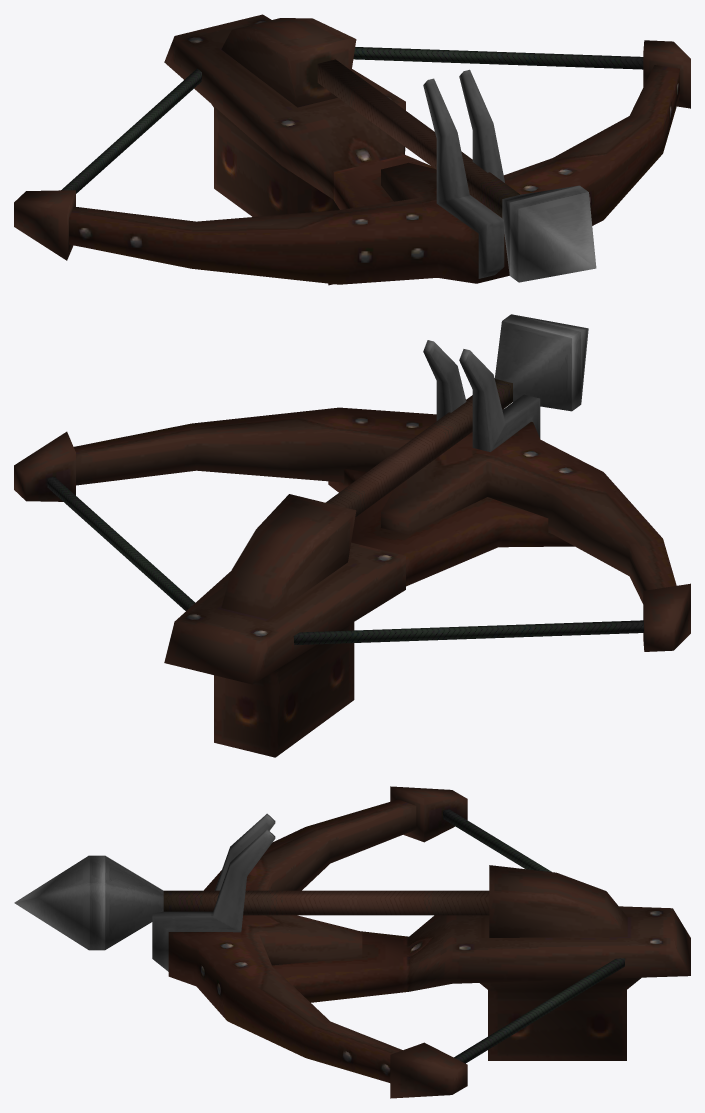
The model's file is Weapon9.fbx.
The picture shows the model from 3 angles, top to bottom: view 1: azimuth 30°, elevation 25°; view 2: azimuth 150°, elevation 25°; view 3: azimuth 270°, elevation 25°; orthographic projection. The views are drawn at different scales.
Visible parts, largest first — view 1: Skin, Model; view 2: Skin, Model; view 3: Skin, Model.
Part boxes in pixels (box(x1,y1,x2,y2)): Skin: box(14, 14, 690, 285); Model: box(317, 59, 596, 282); Skin: box(14, 340, 690, 757); Model: box(325, 314, 588, 517); Skin: box(152, 786, 690, 1098); Model: box(14, 855, 489, 950).
Size of the model in its own units: 120 by 44.32 by 121.
